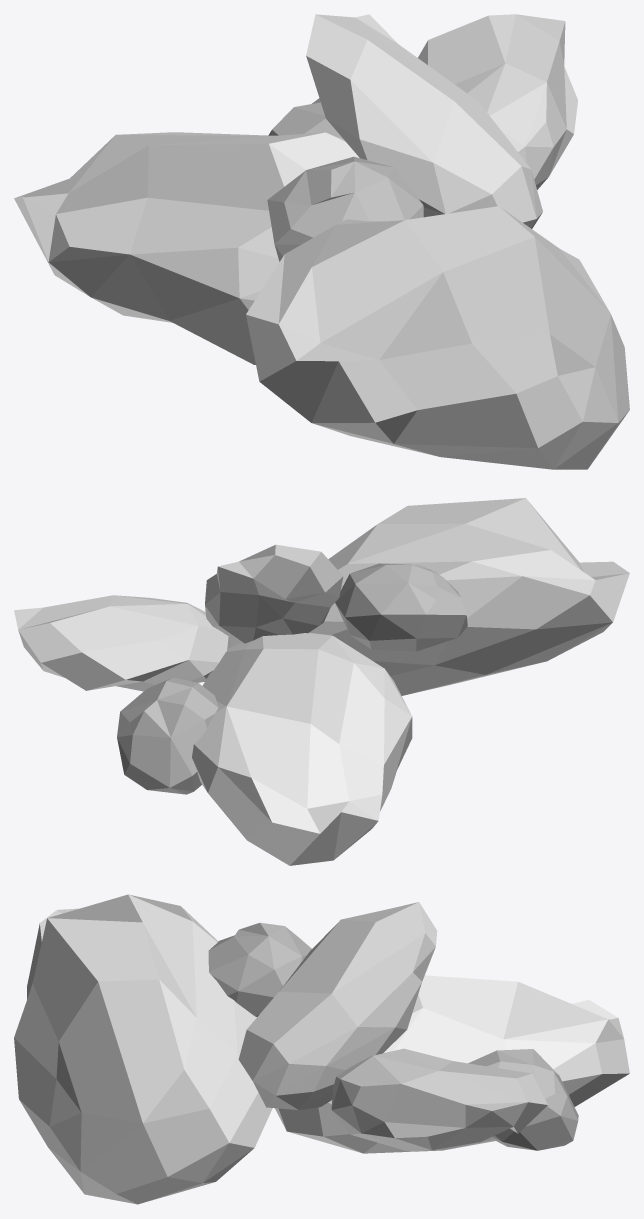
The model's file is stones_009.glb.
3 renders of one model, top to bottom at view 1: azimuth 30°, elevation 25°; view 2: azimuth 150°, elevation 25°; view 3: azimuth 270°, elevation 25°, orthographic. The views are drawn at different scales.
Parts seen in each view (by area): view 1: stones_009; view 2: stones_009; view 3: stones_009.
Part boxes in pixels (x1,y1,x2,y2): stones_009: (14, 14, 629, 469); stones_009: (14, 498, 629, 865); stones_009: (14, 894, 629, 1204).
Bounding box in the file's own units: 10.4 × 6.02 × 12.48.
Materials: 1 (1 with a texture image).
